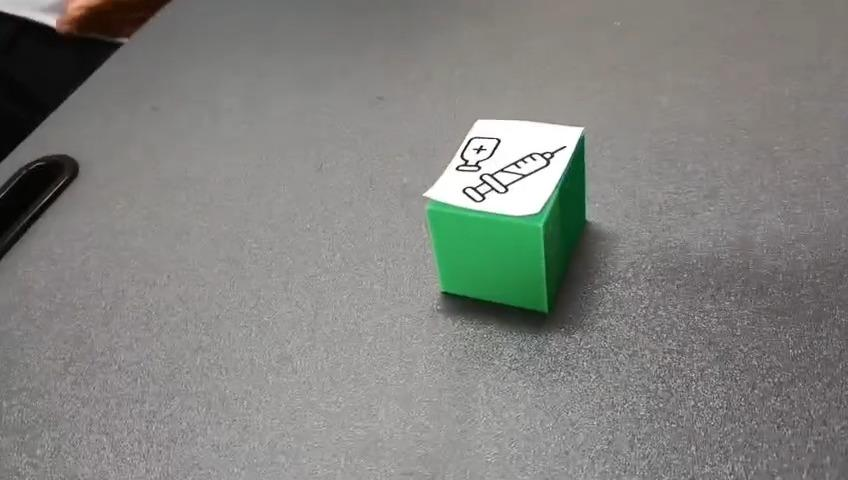antiseptic cream: (421, 116, 587, 315)
